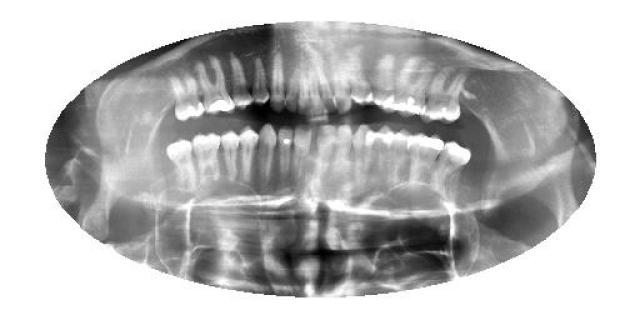Fillings: (383, 56, 438, 118), (422, 67, 468, 126), (406, 131, 446, 191), (196, 55, 234, 117), (171, 69, 204, 120)
